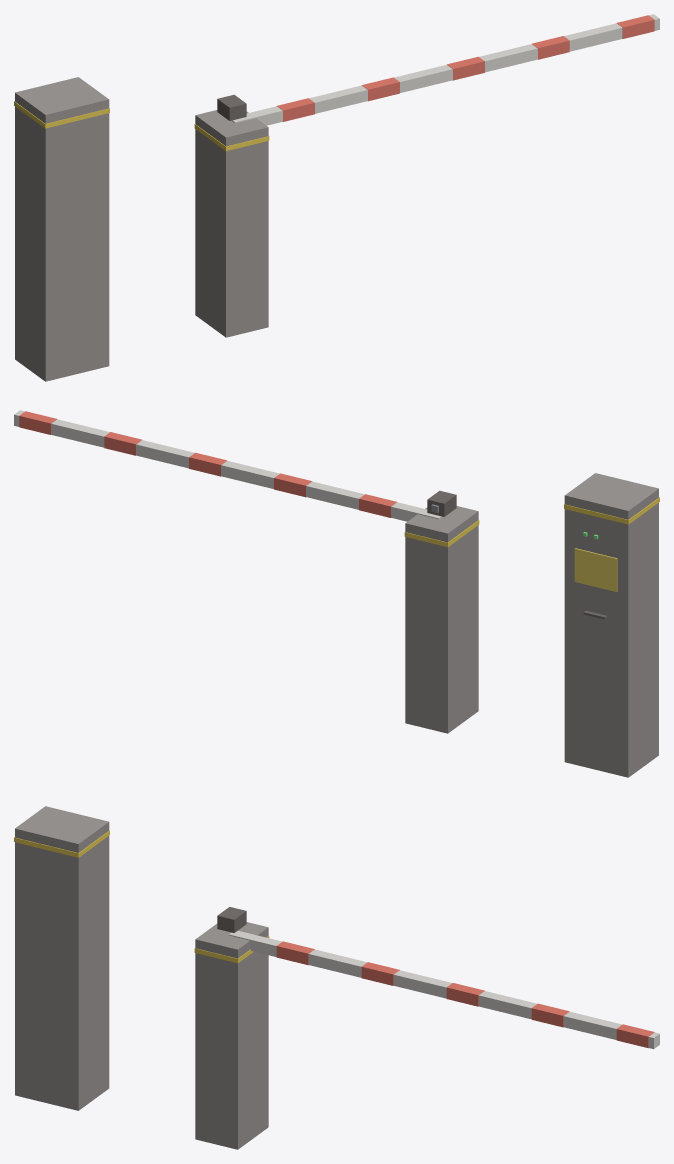
Rendered from gate-system.glb.
3 renders of one model, top to bottom at view 1: azimuth 30°, elevation 25°; view 2: azimuth 150°, elevation 25°; view 3: azimuth 330°, elevation 25°, orthographic.
Parts seen in each view (by area): view 1: kiosk, housing, arm, cam, s4, s0, s3, s1, s2; view 2: kiosk, housing, arm, screen, s4, s0, s3, s1, s2, cam; view 3: kiosk, housing, arm, cam, s4, s0, s2, s3, s1, ktrim.
Part boxes in pixels (box(x1,y1,x2,y2)): kiosk: box(15, 77, 109, 381); housing: box(195, 110, 268, 337); arm: box(231, 14, 659, 125); cam: box(217, 94, 246, 120); s4: box(617, 15, 654, 38); s0: box(277, 98, 314, 121); s3: box(532, 36, 569, 59); s1: box(361, 77, 399, 101); s2: box(447, 56, 484, 80); kiosk: box(564, 473, 658, 777); housing: box(405, 506, 478, 733); arm: box(14, 410, 442, 521); screen: box(574, 548, 617, 591); s4: box(19, 411, 56, 434); s0: box(359, 494, 396, 517); s3: box(104, 432, 141, 455); s1: box(274, 473, 312, 497); s2: box(189, 452, 226, 476); cam: box(427, 490, 456, 516); kiosk: box(15, 806, 109, 1110); housing: box(195, 922, 268, 1149); arm: box(229, 930, 659, 1049); cam: box(217, 907, 246, 932); s4: box(616, 1024, 654, 1048); s0: box(276, 941, 314, 965); s2: box(446, 983, 484, 1006); s3: box(531, 1003, 569, 1027); s1: box(361, 962, 399, 985); ktrim: box(14, 830, 109, 857).
Size of the model in its own units: 2.95 by 1.2 by 0.2705.
